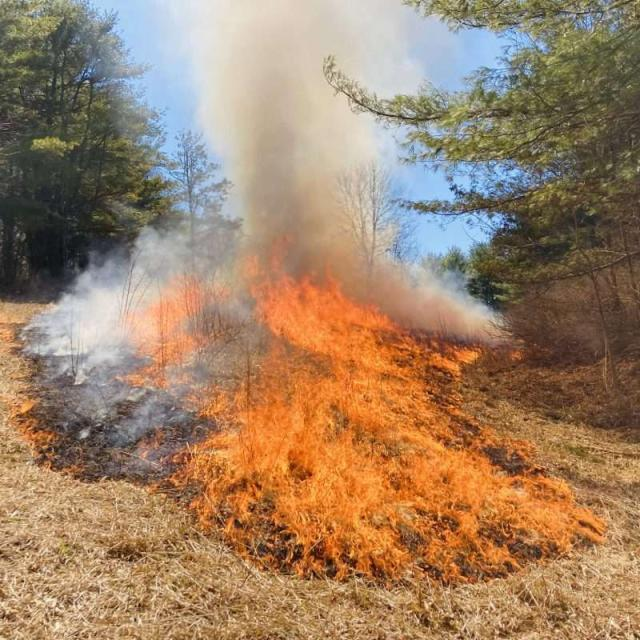Fire: (153, 240, 618, 587)
Smoke: (197, 0, 412, 374), (20, 246, 226, 384), (368, 256, 520, 336)
